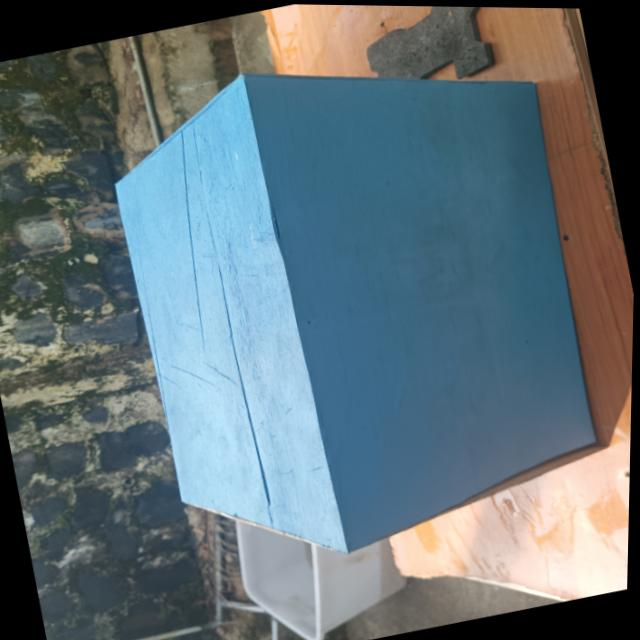blue_box: (84, 11, 631, 589)
